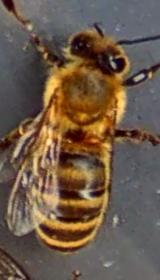varroa_mite: (77, 126, 111, 160)
